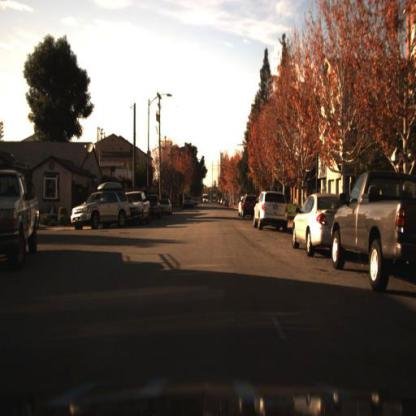car: (330, 170, 415, 293), (0, 161, 40, 267), (289, 191, 347, 258), (70, 178, 130, 233), (291, 189, 339, 255), (70, 184, 130, 230), (252, 189, 290, 233), (250, 189, 290, 229), (128, 189, 151, 226), (130, 191, 149, 219), (238, 192, 258, 218), (148, 192, 162, 221), (161, 194, 175, 216), (180, 191, 196, 209)
